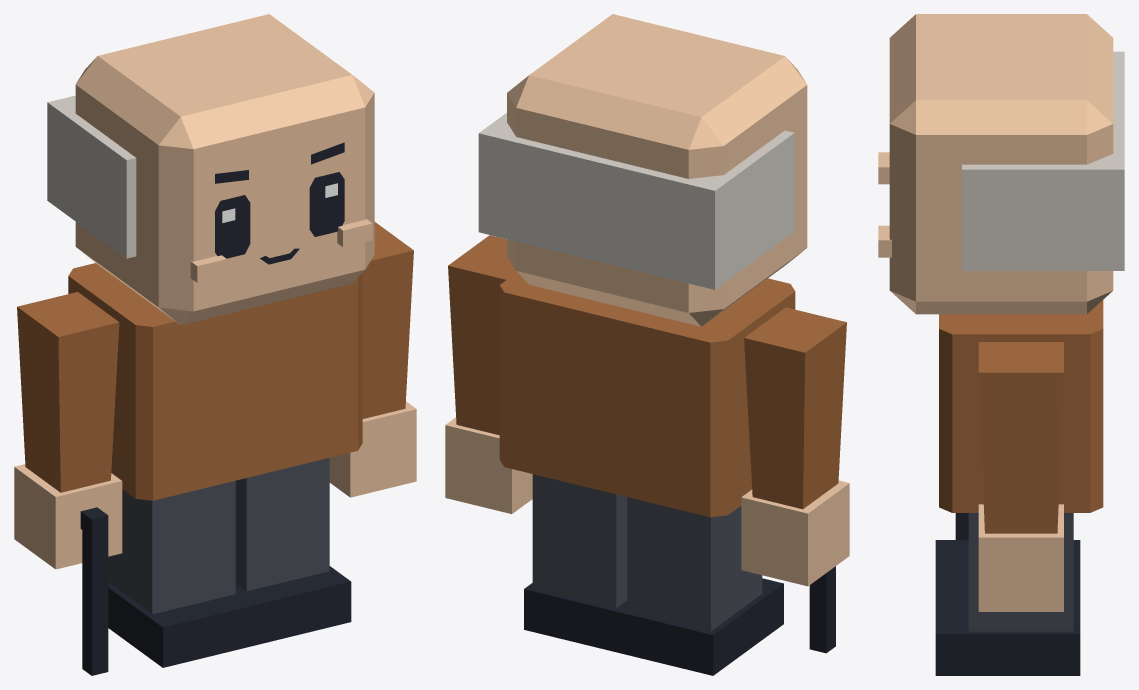
The model's file is townsperson-elder.glb.
3 renders of one model, left to right at view 1: azimuth 30°, elevation 25°; view 2: azimuth 150°, elevation 25°; view 3: azimuth 270°, elevation 25°, orthographic. The views are drawn at different scales.
Parts seen in each view (by area): view 1: head, body, arm_R, leg_R, leg_L, hair, arm_L, shoe_R, hand_R, face, hand_L, shoe_L (+1 smaller); view 2: body, head, hair, arm_R, leg_R, leg_L, arm_L, hand_R, shoe_R, hand_L, shoe_L, cane; view 3: head, body, hair, arm_L, shoe_L, hand_L, leg_L, shoe_R, face.
Part boxes in pixels (left/top/right/bottom): head: left=75, top=14, right=374, bottom=325; body: left=68, top=263, right=362, bottom=500; arm_R: left=17, top=292, right=119, bottom=492; leg_R: left=108, top=480, right=235, bottom=614; leg_L: left=235, top=458, right=329, bottom=591; hair: left=47, top=95, right=136, bottom=258; arm_L: left=362, top=222, right=413, bottom=418; shoe_R: left=108, top=582, right=256, bottom=667; hand_R: left=14, top=464, right=122, bottom=569; face: left=190, top=142, right=372, bottom=282; hand_L: left=329, top=401, right=416, bottom=497; shoe_L: left=235, top=566, right=351, bottom=644; body: left=499, top=272, right=795, bottom=517; head: left=507, top=14, right=807, bottom=326; hair: left=478, top=113, right=794, bottom=289; arm_R: left=744, top=307, right=846, bottom=509; leg_R: left=627, top=497, right=762, bottom=631; leg_L: left=532, top=474, right=627, bottom=608; arm_L: left=448, top=235, right=516, bottom=435; hand_R: left=741, top=480, right=849, bottom=586; shoe_R: left=618, top=578, right=783, bottom=675; hand_L: left=445, top=417, right=532, bottom=513; shoe_L: left=524, top=583, right=627, bottom=652; cane: left=809, top=566, right=835, bottom=653; head: left=889, top=14, right=1113, bottom=314; body: left=939, top=300, right=1103, bottom=512; hair: left=962, top=51, right=1124, bottom=270; arm_L: left=978, top=342, right=1063, bottom=533; shoe_L: left=935, top=587, right=1080, bottom=675; hand_L: left=978, top=504, right=1063, bottom=611; leg_L: left=968, top=513, right=1073, bottom=631; shoe_R: left=935, top=540, right=1080, bottom=586; face: left=878, top=152, right=891, bottom=257.
Bounding box in the file's own units: 1.3 × 1.92 × 0.75.
